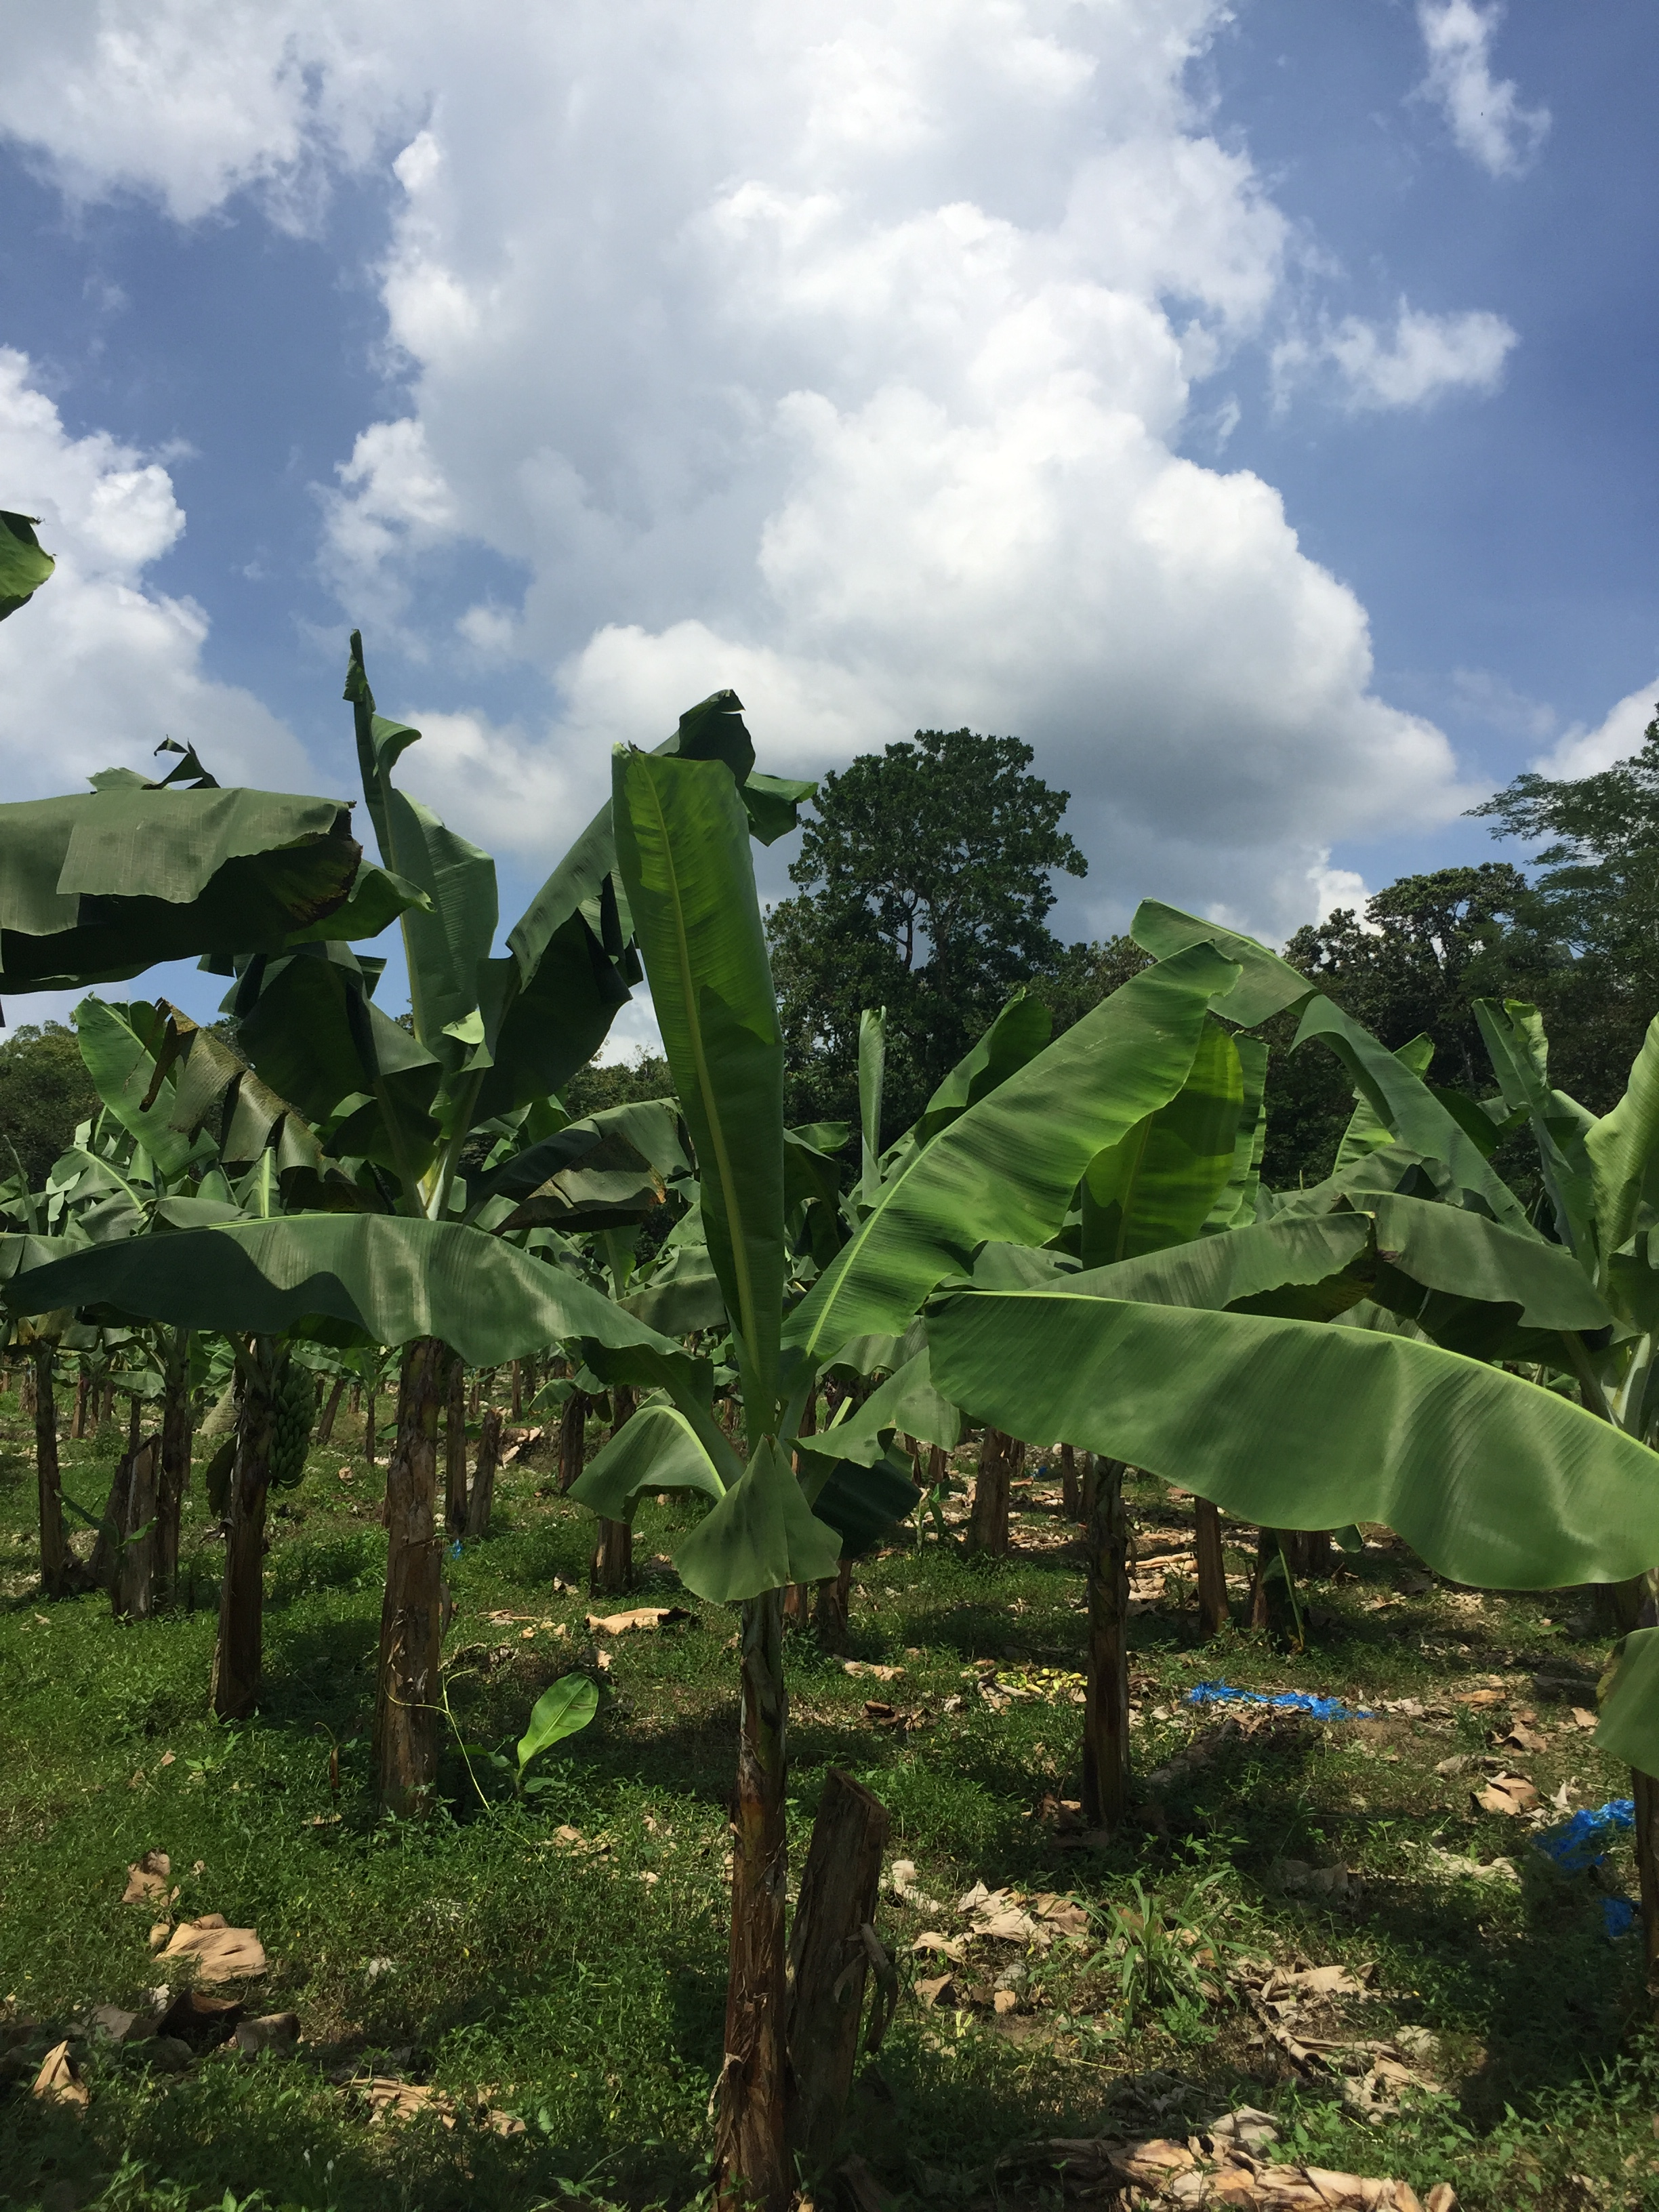candleleafs: (859, 1005, 887, 1200)
